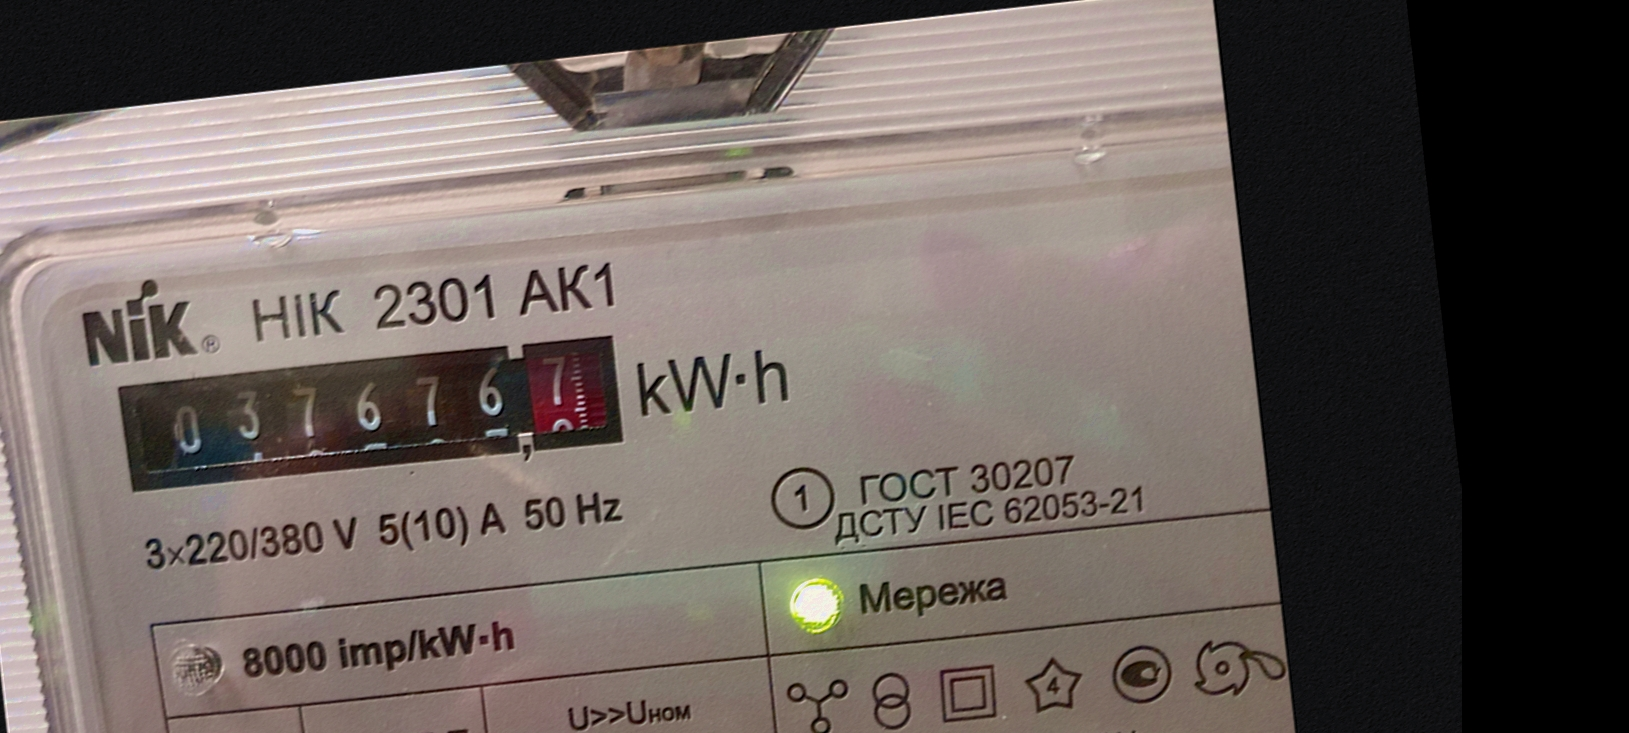0: (169, 400, 208, 458)
3: (230, 385, 264, 444)
6: (349, 377, 388, 434), (472, 363, 508, 420)
7: (411, 372, 448, 433), (288, 382, 325, 441), (539, 352, 573, 410)
screen: (101, 313, 642, 518)
